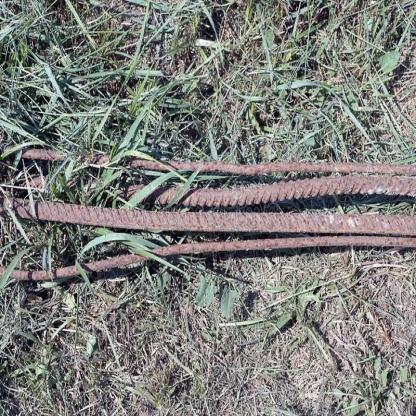rebar: (0, 141, 415, 284)
